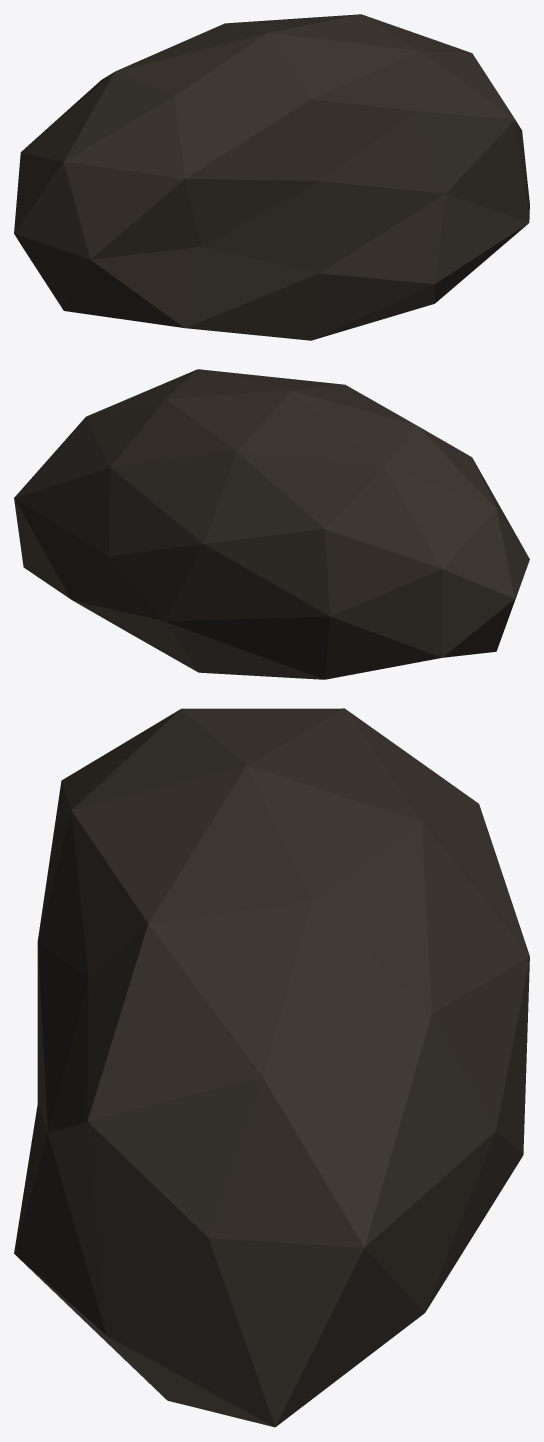
Rendered from rockmedium.fbx.
The picture shows the model from 3 angles, top to bottom: view 1: azimuth 30°, elevation 25°; view 2: azimuth 150°, elevation 25°; view 3: azimuth 270°, elevation 25°; orthographic projection. The views are drawn at different scales.
Parts seen in each view (by area): view 1: Icosphere.008; view 2: Icosphere.008; view 3: Icosphere.008.
Boxes of the visible parts, x1,y1,x2,y2 form: Icosphere.008: (14, 14, 529, 340); Icosphere.008: (14, 369, 529, 679); Icosphere.008: (14, 708, 529, 1427).
Bounding box in the file's own units: 50.72 × 25.04 × 27.35.
